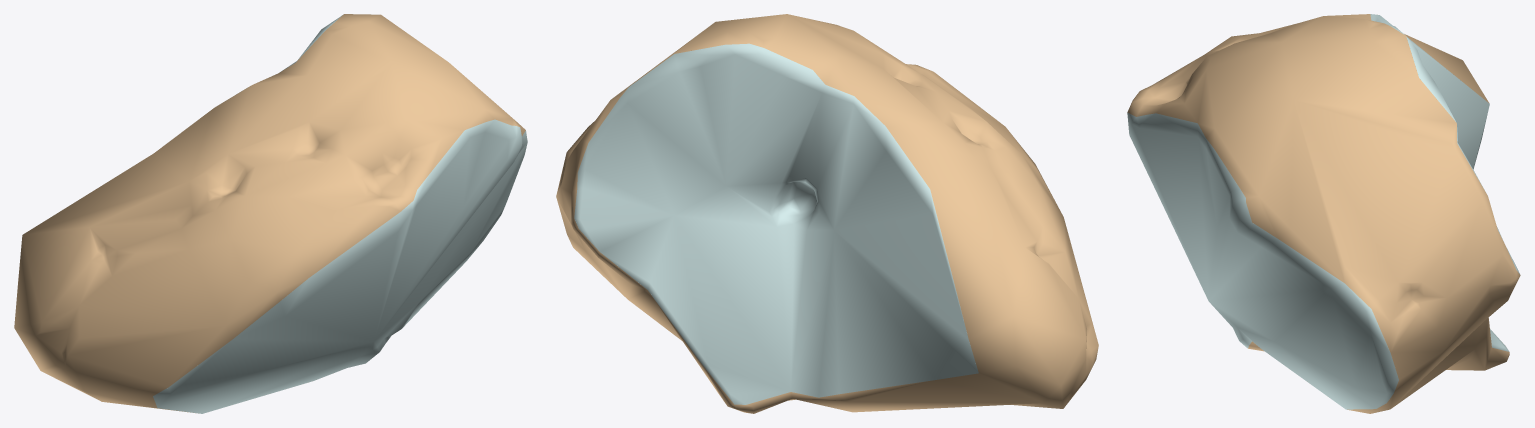
Rendered from Navicular_bone.l_Generated_Mesh_From_X3D.279.glb.
3 renders of one model, left to right at view 1: azimuth 30°, elevation 25°; view 2: azimuth 150°, elevation 25°; view 3: azimuth 270°, elevation 25°, orthographic. The views are drawn at different scales.
Parts seen in each view (by area): view 1: Navicular_bone.l_Generated_Mesh_From_X3D.279; view 2: Navicular_bone.l_Generated_Mesh_From_X3D.279; view 3: Navicular_bone.l_Generated_Mesh_From_X3D.279.
Boxes of the visible parts, box(x1,y1,x2,y2) form: Navicular_bone.l_Generated_Mesh_From_X3D.279: box(14, 14, 527, 413); Navicular_bone.l_Generated_Mesh_From_X3D.279: box(556, 14, 1098, 413); Navicular_bone.l_Generated_Mesh_From_X3D.279: box(1127, 14, 1520, 413).
Bounding box in the file's own units: 0.0407 × 0.0259 × 0.024.
